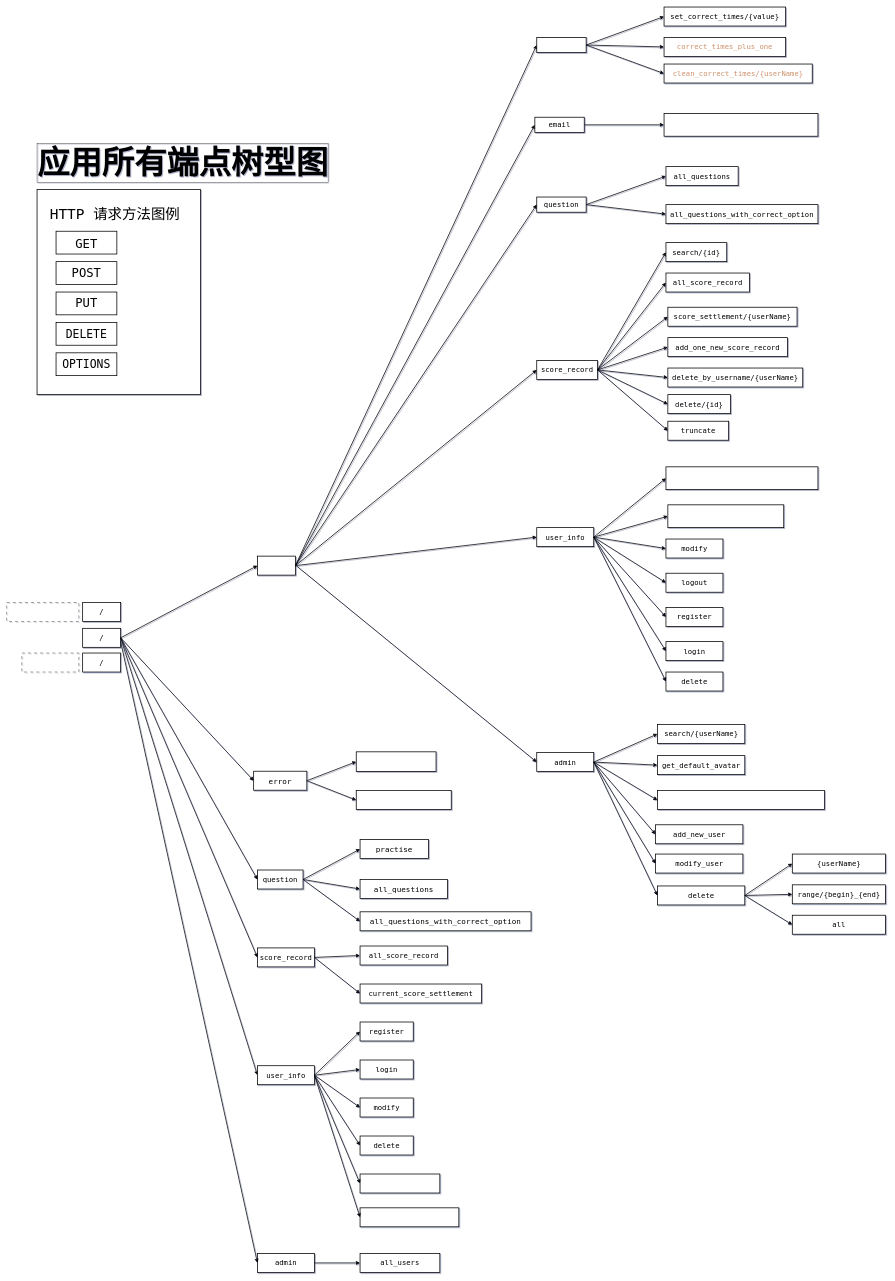
Some shapes in this 895 by 1281 pixel diagram are drawn without their labels. Here are the shapes that lost their labels. From the top down, the box of each, then its label:
(536, 37, 586, 53): redis
(663, 113, 818, 136): send_verify_code_email/{userName}
(665, 466, 818, 490): user_overview_avatar/{userName}
(667, 504, 784, 528): set_user_overview_avatar
(257, 556, 296, 575): api
(6, 602, 79, 621): 对根目录发起 OPTIONS 请求，跳转至服务器支持的请求方法视图。
(21, 653, 79, 672): 对根目录发起 GET 请求，跳转至用户登录页面。
(356, 751, 436, 772): access_denied
(356, 790, 451, 810): controller_error
(657, 790, 825, 810): set_user_overview_avatar/{userName}
(359, 1173, 440, 1193): user_front_page
(359, 1207, 459, 1227): overview/{userName}
